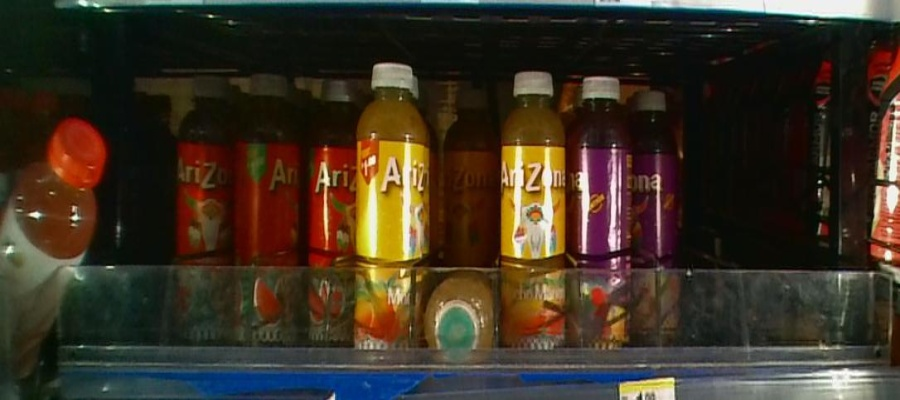bottle: (230, 65, 303, 352), (356, 56, 422, 365), (496, 64, 565, 355), (566, 73, 631, 364), (167, 71, 229, 349), (305, 66, 356, 354), (631, 81, 680, 347), (428, 265, 489, 378)
